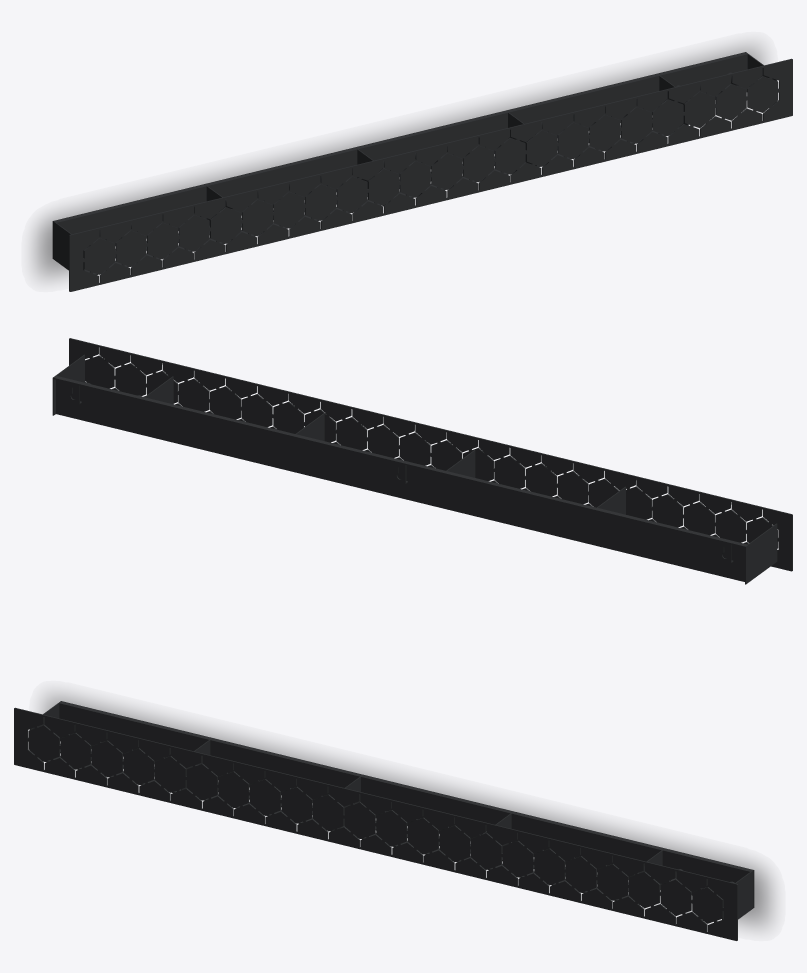
File: bee-patron.39fb3d05c5.ar.glb
3 views of the same model, one above another, from view 1: azimuth 30°, elevation 25°; view 2: azimuth 150°, elevation 25°; view 3: azimuth 330°, elevation 25° (orthographic).
Parts seen in each view (by area): view 1: NAUO1, object 2; view 2: NAUO1; view 3: NAUO1, object 2.
Boxes of the visible parts, <box> form: NAUO1: <box>52,52,792,291</box>; object 2: <box>33,45,765,278</box>; NAUO1: <box>52,338,792,584</box>; NAUO1: <box>14,701,754,940</box>; object 2: <box>41,694,773,927</box>.
Size of the model in its own units: 1.28 by 0.17 by 0.092.
2 materials, 1 textured.
